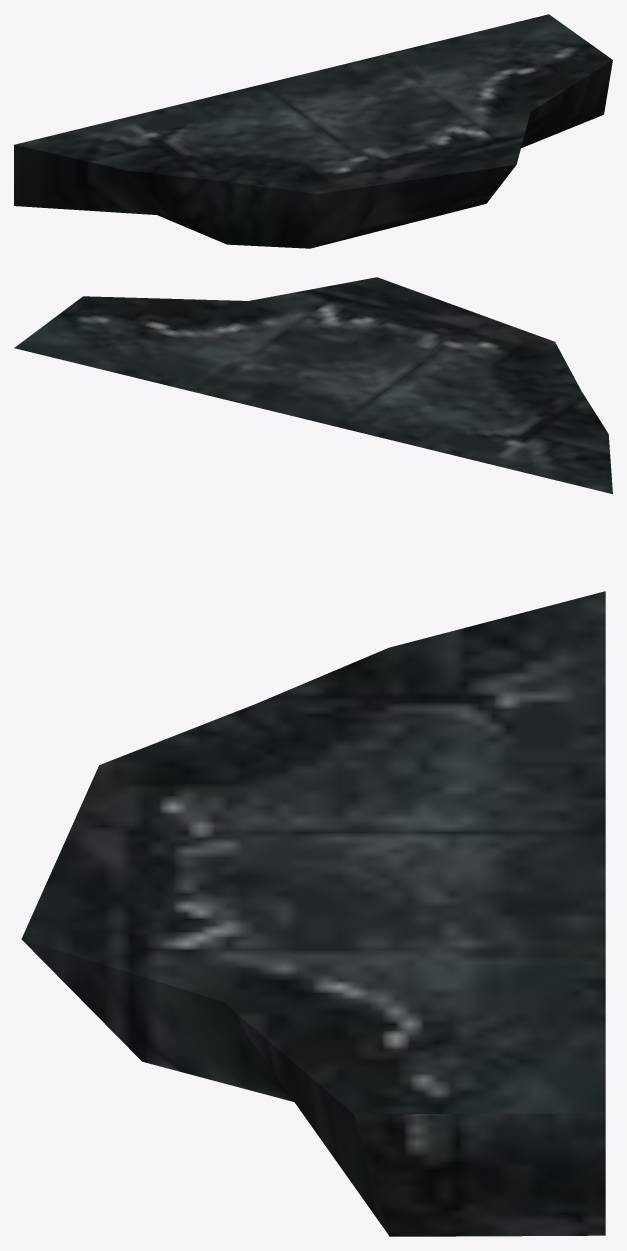
3 renders of one model, top to bottom at view 1: azimuth 30°, elevation 25°; view 2: azimuth 150°, elevation 25°; view 3: azimuth 270°, elevation 25°, orthographic. The views are drawn at different scales.
Parts seen in each view (by area): view 1: model_Object07; view 2: model_Object07; view 3: model_Object07.
Boxes of the visible parts, bbox=[...] form: model_Object07: bbox=[14, 14, 612, 248]; model_Object07: bbox=[14, 277, 612, 494]; model_Object07: bbox=[21, 591, 605, 1236].
Bounding box in the file's own units: 1.83 × 0.1993 × 0.8618.
Materials: 1 (1 with a texture image).
